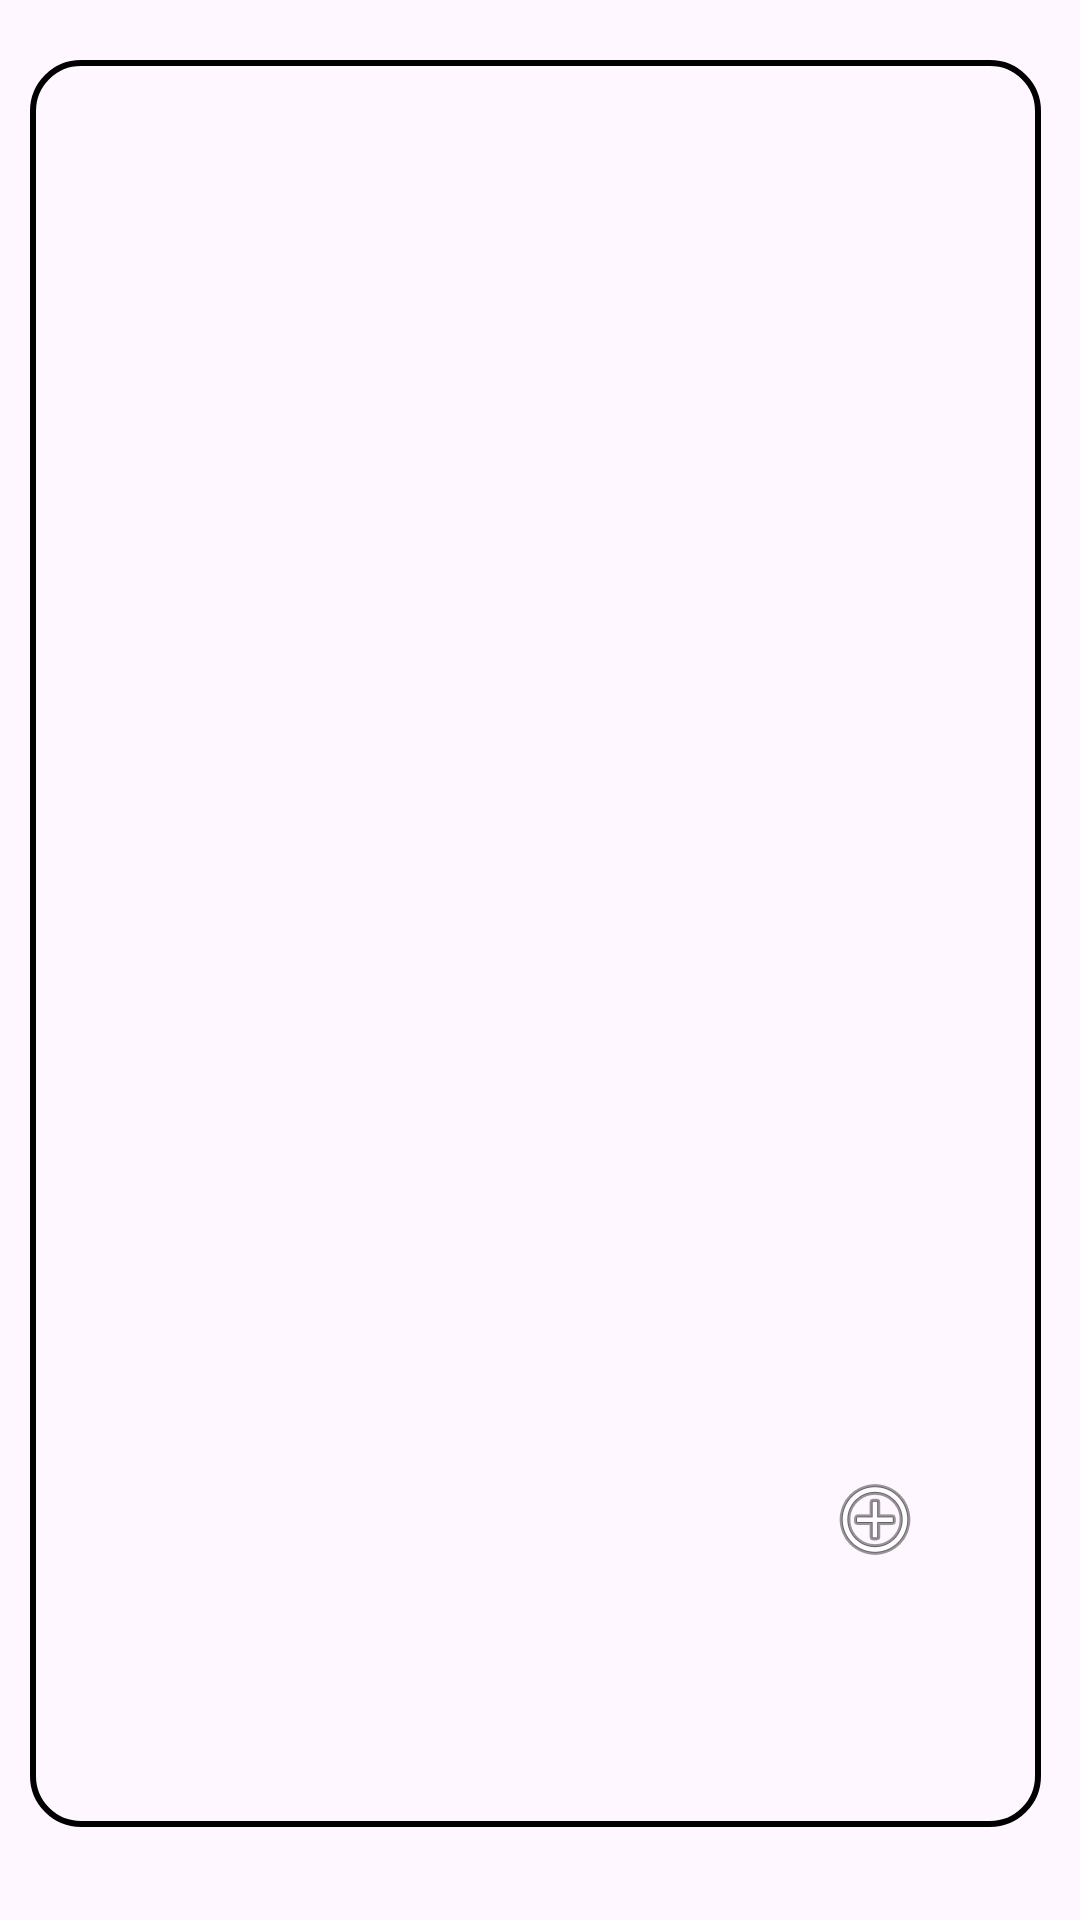

Point at icon controls on the screen. Image size 1080w x 1920h, points as (x,y).
add: (875,1519)
